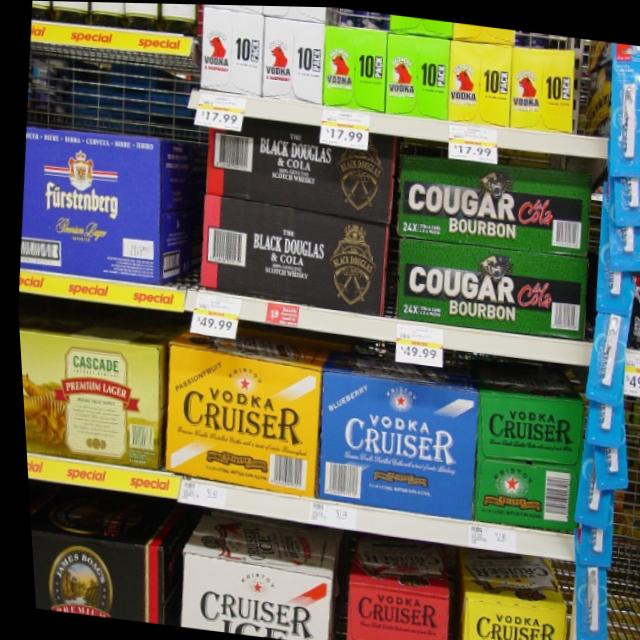q163: (24, 520, 166, 623)
